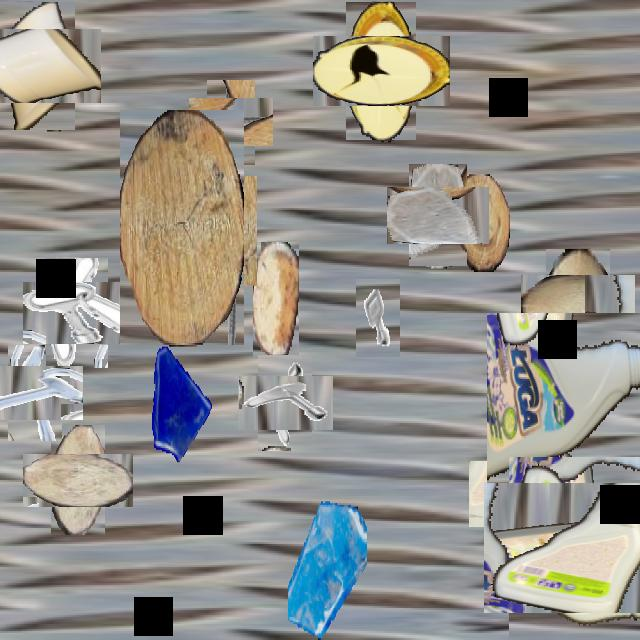glass: (288, 500, 366, 638), (142, 336, 212, 460), (398, 175, 478, 255)
metal: (34, 270, 120, 356), (195, 176, 257, 286), (248, 366, 322, 441), (0, 355, 72, 430), (198, 89, 264, 156), (356, 279, 400, 357)
plastic: (487, 313, 640, 498), (496, 469, 640, 625), (505, 423, 640, 564), (329, 19, 433, 123), (0, 15, 88, 116)
wood: (120, 110, 244, 345), (534, 262, 622, 351), (37, 439, 119, 521), (253, 242, 299, 359), (453, 174, 509, 270)
